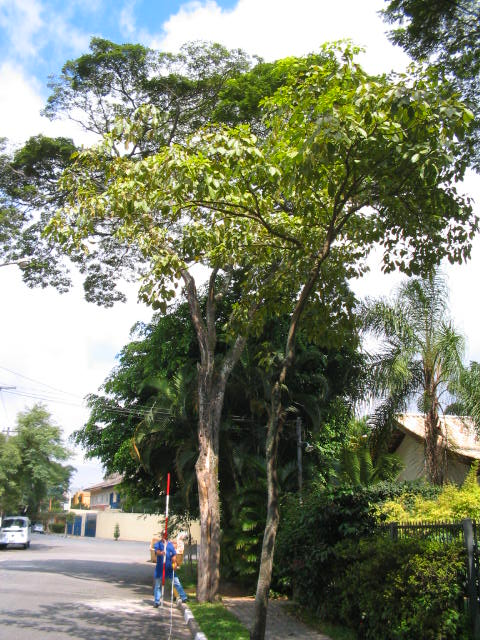crown: (8, 34, 475, 311), (54, 38, 475, 294)
stem: (248, 264, 325, 637), (183, 371, 232, 601)
stick: (157, 472, 175, 609)
tree: (4, 34, 480, 602), (54, 38, 478, 640)
